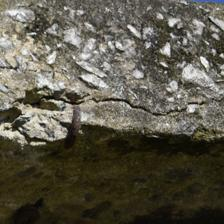Crack: (5, 82, 81, 142), (48, 167, 116, 191)
